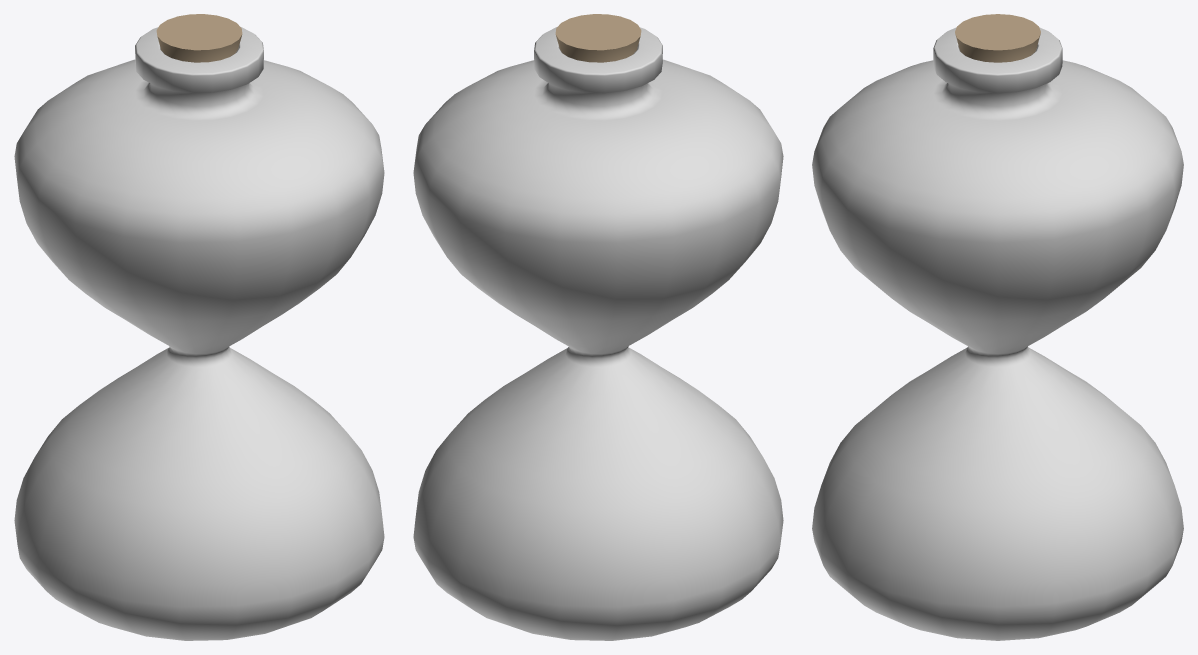
File: Sablier.fbx
3 renders of one model, left to right at view 1: azimuth 30°, elevation 25°; view 2: azimuth 150°, elevation 25°; view 3: azimuth 270°, elevation 25°, orthographic.
Parts seen in each view (by area): view 1: Verre, Bouchon; view 2: Verre, Bouchon; view 3: Verre, Bouchon.
Part boxes in pixels (x1,y1,x2,y2): Verre: (14, 27, 384, 640); Bouchon: (156, 14, 242, 62); Verre: (413, 27, 783, 640); Bouchon: (555, 14, 641, 62); Verre: (812, 27, 1183, 640); Bouchon: (955, 14, 1040, 62).
Size of the model in its own units: 17.35 by 29.5 by 17.35.
